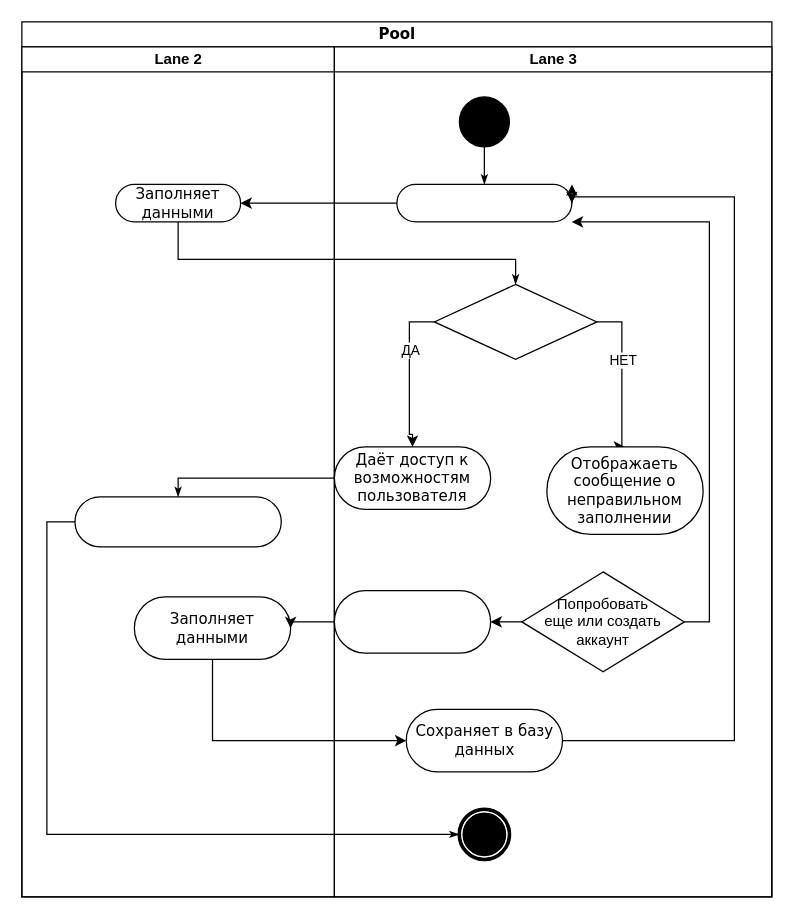
This 794x919 diagram has some shape labels left out. Here are the shapes that lost their labels. From the top down, the centre of each, then its label:
At (x=484, y=202): "Отображает страницу авторизации".
At (x=515, y=321): "Информация валидна?".
At (x=177, y=521): "Выполняет нужные действия на сервисе".
At (x=412, y=621): "Отображает форму регистрации".
